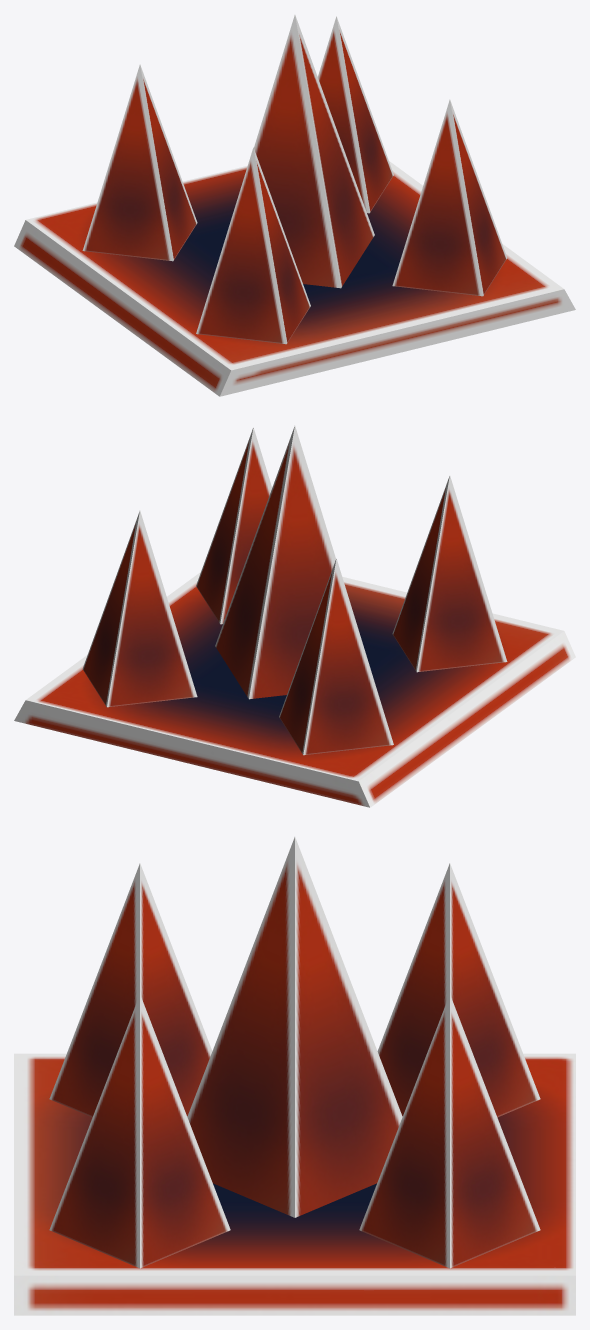
Rendered from MG-ChJ-CS-10JianCi-1.FBX.
3 renders of one model, top to bottom at view 1: azimuth 30°, elevation 25°; view 2: azimuth 150°, elevation 25°; view 3: azimuth 270°, elevation 25°, orthographic. The views are drawn at different scales.
Parts seen in each view (by area): view 1: MG-ChJ-CS-10JianCi-1; view 2: MG-ChJ-CS-10JianCi-1; view 3: MG-ChJ-CS-10JianCi-1.
Part boxes in pixels (x1=…): MG-ChJ-CS-10JianCi-1: x1=14, y1=15, x2=575, y2=396; MG-ChJ-CS-10JianCi-1: x1=14, y1=426, x2=575, y2=807; MG-ChJ-CS-10JianCi-1: x1=14, y1=837, x2=575, y2=1315.
Size of the model in its own units: 39.37 by 27.87 by 39.37.
